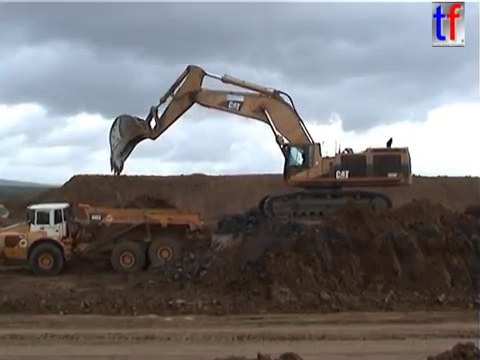excavator: (105, 62, 414, 227)
truck: (1, 199, 206, 277)
